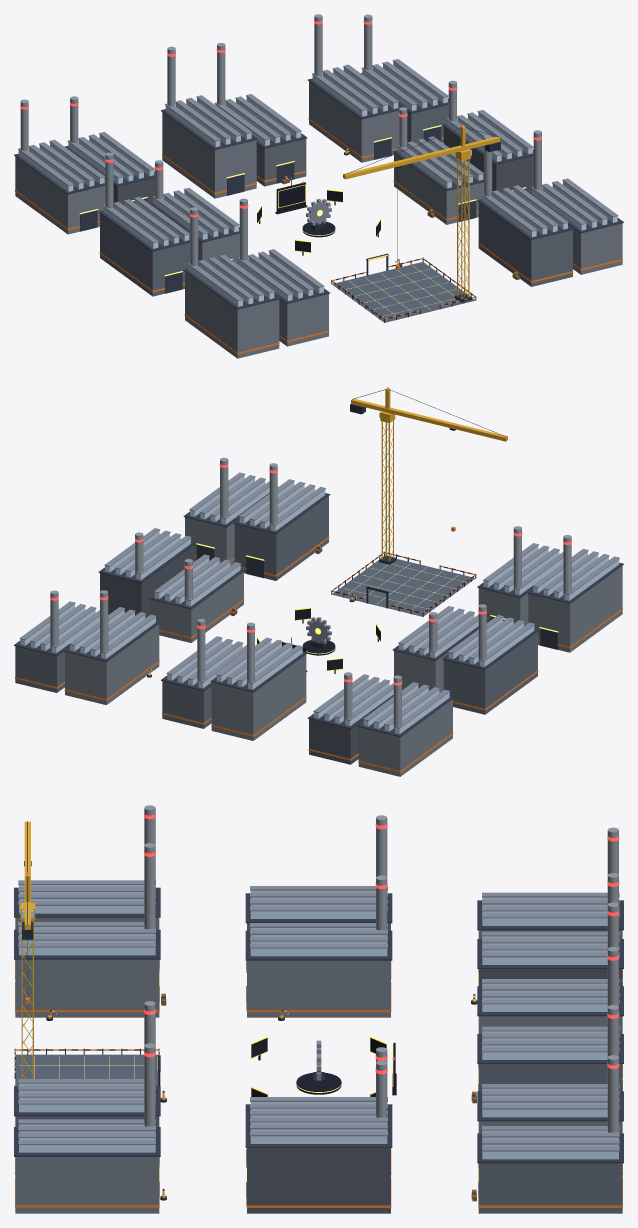
3 renders of one model, top to bottom at view 1: azimuth 30°, elevation 25°; view 2: azimuth 150°, elevation 25°; view 3: azimuth 270°, elevation 25°, orthographic. The views are drawn at different scales.
Parts seen in each view (by area): view 1: district_city_taller.lod0; view 2: district_city_taller.lod0; view 3: district_city_taller.lod0.
Part boxes in pixels (left/top/right/bottom): district_city_taller.lod0: left=14, top=14, right=623, bottom=358; district_city_taller.lod0: left=14, top=387, right=623, bottom=776; district_city_taller.lod0: left=14, top=805, right=623, bottom=1213.
Bounding box in the file's own units: 97.4 × 41.97 × 97.4.
